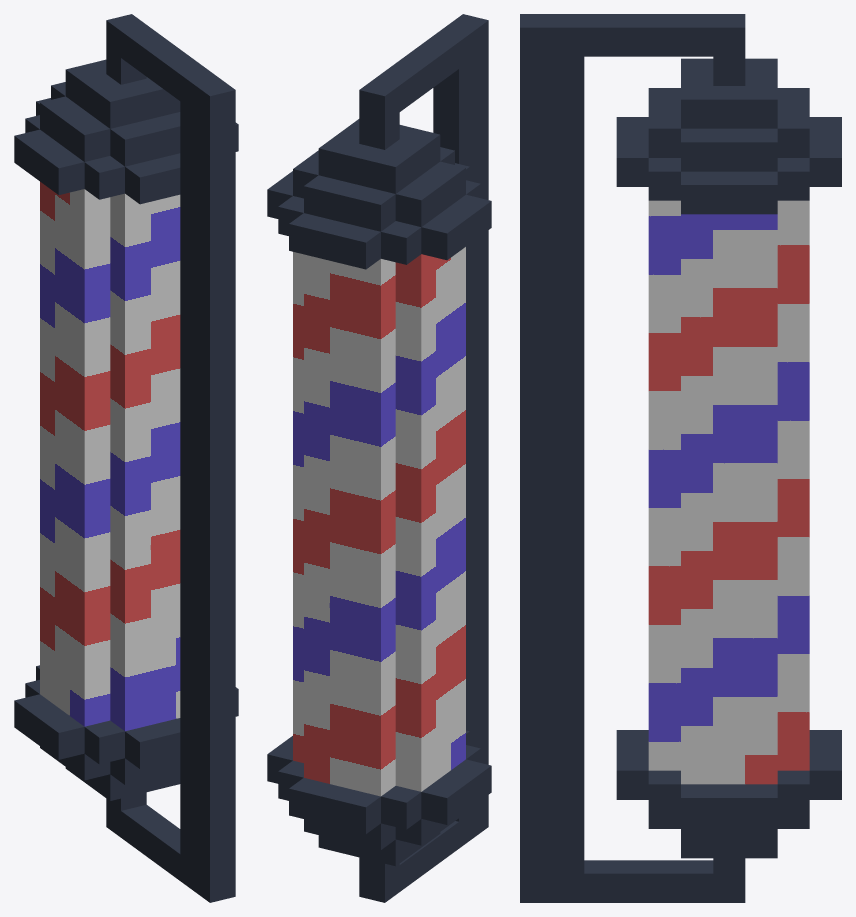
File: barber_znak.dae
3 renders of one model, left to right at view 1: azimuth 30°, elevation 25°; view 2: azimuth 150°, elevation 25°; view 3: azimuth 270°, elevation 25°, orthographic. The views are drawn at different scales.
Parts seen in each view (by area): view 1: Content; view 2: Content; view 3: Content.
Boxes of the visible parts, box(x1,y1,x2,y2) form: Content: box(14, 14, 238, 902); Content: box(267, 14, 491, 902); Content: box(520, 14, 841, 902).
Size of the model in its own units: 7 by 30 by 10.
1 material, 1 textured.
